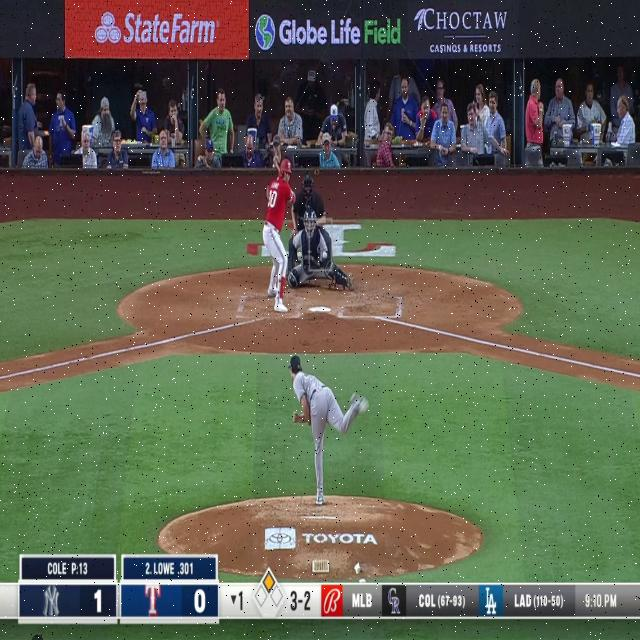baseball: (323, 250, 327, 259)
